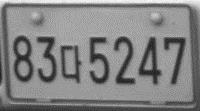2: (113, 35, 135, 84)
3: (36, 36, 57, 82)
4: (137, 35, 162, 85)
5: (88, 36, 110, 84)
7: (162, 36, 186, 85)
8: (12, 34, 33, 81)
다: (60, 44, 83, 84)
